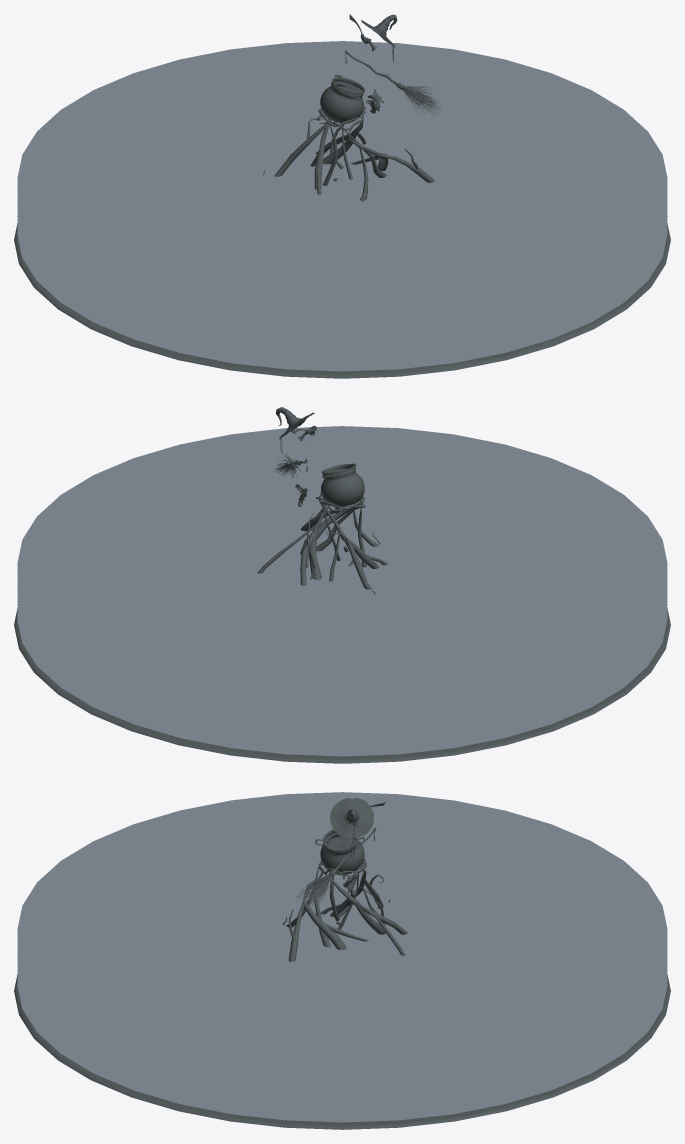
The model's file is potion.fbx.
3 renders of one model, top to bottom at view 1: azimuth 30°, elevation 25°; view 2: azimuth 150°, elevation 25°; view 3: azimuth 270°, elevation 25°, orthographic.
Visible parts, largest first — view 1: Haze, Ground, Branches_1, Branches_2, Base_Cauldron, Branches_3, Brushwood_Broom; view 2: Haze, Ground, Branches_2, Base_Cauldron, Branches_1, Branches_3; view 3: Haze, Ground, Branches_2, Branches_1, Witch_Hat_2, Branches_3, Base_Cauldron, Brushwood_Broom.
Part boxes in pixels (x1=…): Haze: x1=17, y1=41, x2=667, y2=371; Ground: x1=14, y1=223, x2=670, y2=378; Branches_1: x1=263, y1=118, x2=434, y2=189; Branches_2: x1=274, y1=108, x2=418, y2=201; Base_Cauldron: x1=320, y1=79, x2=363, y2=123; Branches_3: x1=310, y1=106, x2=380, y2=200; Brushwood_Broom: x1=402, y1=86, x2=441, y2=115; Haze: x1=17, y1=426, x2=667, y2=756; Ground: x1=14, y1=608, x2=670, y2=763; Branches_2: x1=300, y1=493, x2=387, y2=589; Base_Cauldron: x1=321, y1=466, x2=364, y2=507; Branches_1: x1=300, y1=500, x2=378, y2=594; Branches_3: x1=257, y1=496, x2=379, y2=585; Haze: x1=17, y1=792, x2=667, y2=1122; Ground: x1=14, y1=974, x2=670, y2=1129; Branches_2: x1=283, y1=859, x2=385, y2=949; Branches_1: x1=288, y1=869, x2=390, y2=961; Witch_Hat_2: x1=330, y1=797, x2=373, y2=838; Branches_3: x1=286, y1=862, x2=407, y2=955; Base_Cauldron: x1=320, y1=831, x2=364, y2=875; Brushwood_Broom: x1=296, y1=873, x2=332, y2=909.
Bounding box in the file's own units: 20334 × 7094 × 20334.
